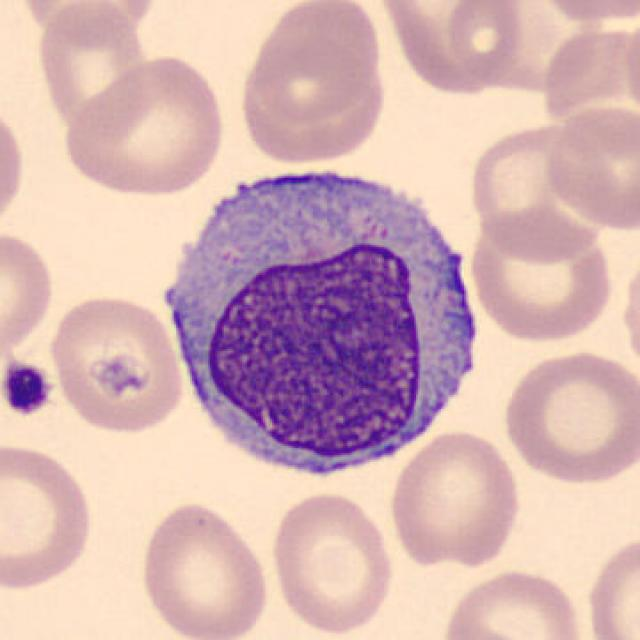Monocyte: (150, 148, 494, 490)
Platelets: (0, 360, 55, 418)
RBC: (59, 51, 229, 199), (464, 206, 619, 346), (45, 291, 186, 437), (135, 497, 274, 640), (386, 426, 524, 570), (498, 346, 638, 486), (266, 488, 396, 636), (236, 51, 390, 168), (244, 0, 384, 125), (30, 2, 155, 138), (373, 0, 528, 97), (0, 439, 98, 592), (540, 100, 640, 234), (438, 564, 590, 640), (0, 224, 57, 365), (582, 529, 638, 640), (16, 0, 163, 42), (0, 96, 28, 236), (526, 0, 640, 28), (618, 246, 640, 377), (620, 9, 640, 125)
